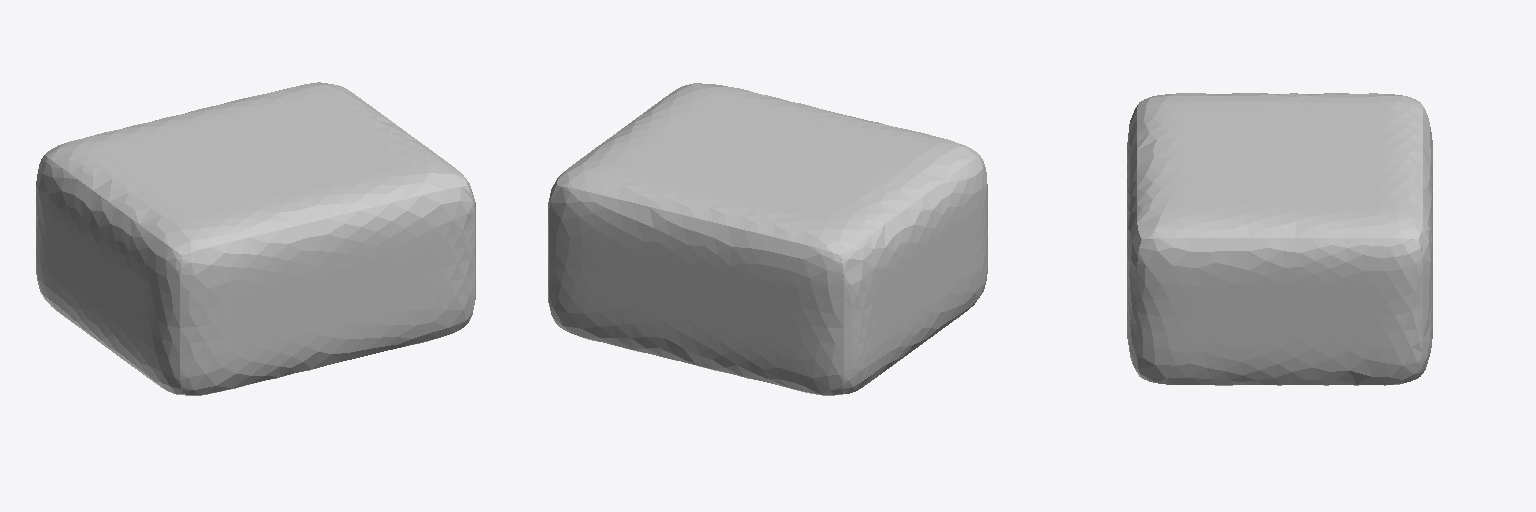
File: bag_thick_handle_dense.obj
3 renders of one model, left to right at view 1: azimuth 30°, elevation 25°; view 2: azimuth 150°, elevation 25°; view 3: azimuth 270°, elevation 25°, orthographic.
Parts seen in each view (by area): view 1: mmGroup0; view 2: mmGroup0; view 3: mmGroup0.
Boxes of the visible parts, <box> form: mmGroup0: <box>36,82,475,395</box>; mmGroup0: <box>548,83,987,395</box>; mmGroup0: <box>1127,93,1432,385</box>.
Bounding box in the file's own units: 0.5 × 0.3 × 0.42.